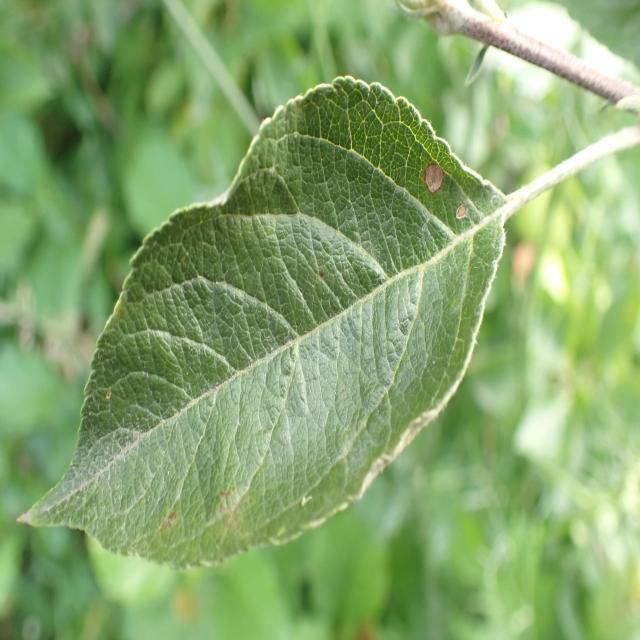Black Rot: (418, 156, 447, 203), (454, 192, 477, 244)
scab: (123, 477, 380, 580)
